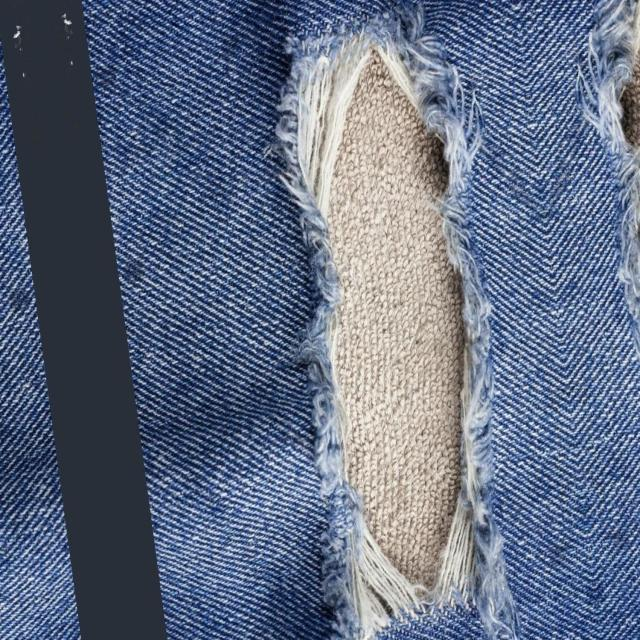cut: (295, 33, 505, 627)
